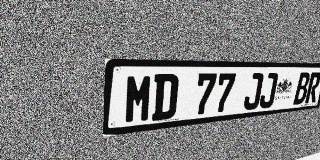7: (192, 73, 217, 116), (213, 73, 236, 114)
B: (293, 72, 311, 105)
D: (151, 74, 179, 121)
J: (242, 73, 264, 111), (258, 73, 279, 109)
M: (124, 74, 154, 124)
R: (305, 72, 320, 103)
